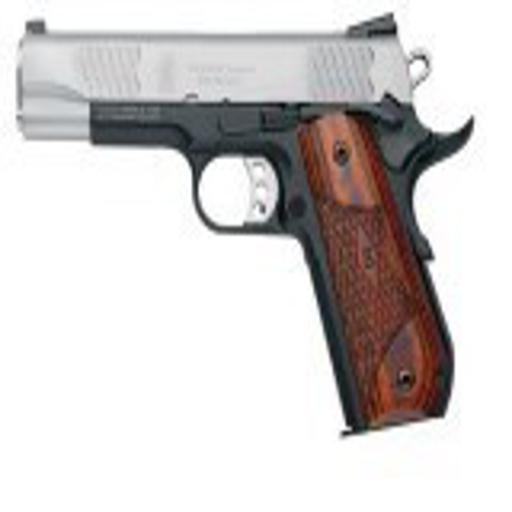Handgun: (8, 11, 472, 447)
